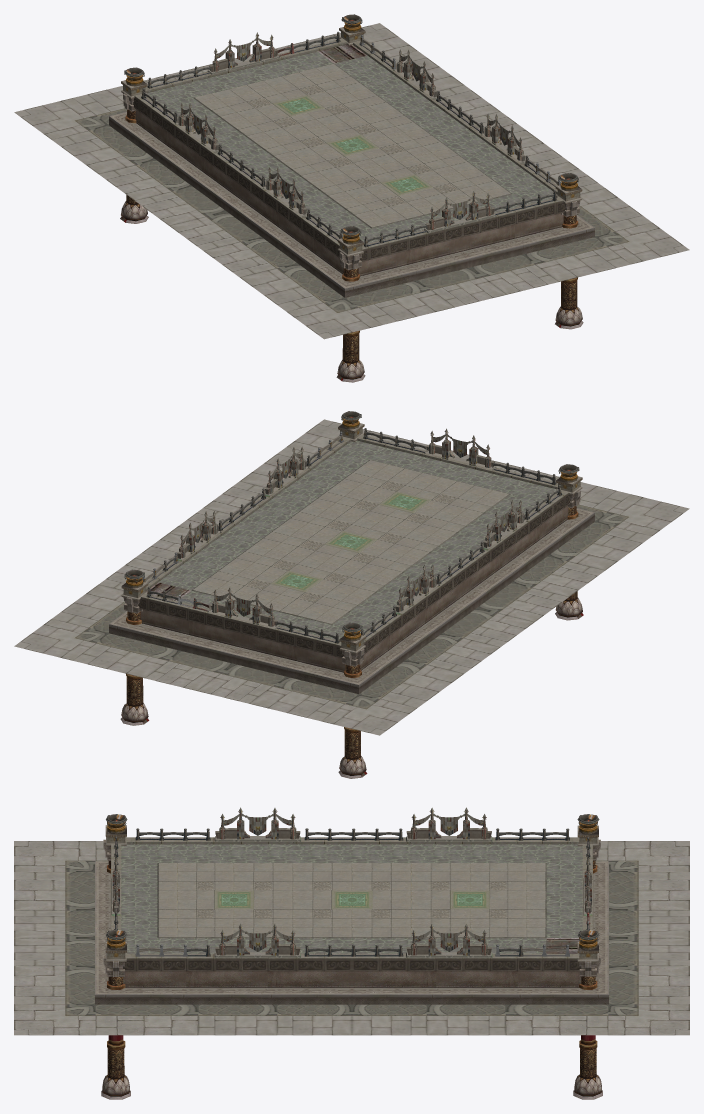
Rendered from zhandoupingtai01_56_12_0105out.fbx.
The picture shows the model from 3 angles, top to bottom: view 1: azimuth 30°, elevation 25°; view 2: azimuth 150°, elevation 25°; view 3: azimuth 270°, elevation 25°; orthographic projection. The views are drawn at different scales.
Parts seen in each view (by area): view 1: 0009_dajinjitai01, 0008_jj_menpaijingji_zhuangshi01, 0010_cj_luoyang_zhuzi01, 0006_cj_luoyang_langan03, 0004_cj_luoyang_huapen01, 0002_jj_huopen01; view 2: 0009_dajinjitai01, 0008_jj_menpaijingji_zhuangshi01, 0010_cj_luoyang_zhuzi01, 0006_cj_luoyang_langan03, 0004_cj_luoyang_huapen01, 0002_jj_huopen01; view 3: 0009_dajinjitai01, 0008_jj_menpaijingji_zhuangshi01, 0010_cj_luoyang_zhuzi01, 0006_cj_luoyang_langan03, 0004_cj_luoyang_huapen01, 0002_jj_huopen01, 0003_cj_luoyang_langan03.
Part boxes in pixels (x1=…): 0009_dajinjitai01: x1=14, y1=23, x2=689, y2=339; 0008_jj_menpaijingji_zhuangshi01: x1=175, y1=32, x2=525, y2=232; 0010_cj_luoyang_zhuzi01: x1=120, y1=93, x2=583, y2=382; 0006_cj_luoyang_langan03: x1=141, y1=31, x2=557, y2=247; 0004_cj_luoyang_huapen01: x1=121, y1=21, x2=582, y2=257; 0002_jj_huopen01: x1=124, y1=14, x2=578, y2=238; 0009_dajinjitai01: x1=14, y1=419, x2=689, y2=735; 0008_jj_menpaijingji_zhuangshi01: x1=177, y1=428, x2=527, y2=629; 0010_cj_luoyang_zhuzi01: x1=120, y1=490, x2=583, y2=778; 0006_cj_luoyang_langan03: x1=146, y1=428, x2=559, y2=643; 0004_cj_luoyang_huapen01: x1=121, y1=418, x2=582, y2=653; 0002_jj_huopen01: x1=124, y1=411, x2=579, y2=636; 0009_dajinjitai01: x1=14, y1=837, x2=689, y2=1035; 0008_jj_menpaijingji_zhuangshi01: x1=111, y1=807, x2=592, y2=957; 0010_cj_luoyang_zhuzi01: x1=101, y1=839, x2=602, y2=1099; 0006_cj_luoyang_langan03: x1=114, y1=828, x2=590, y2=956; 0004_cj_luoyang_huapen01: x1=105, y1=822, x2=598, y2=962; 0002_jj_huopen01: x1=106, y1=814, x2=599, y2=941; 0003_cj_luoyang_langan03: x1=139, y1=944, x2=569, y2=956.
Size of the model in its own units: 49.86 by 20.36 by 73.23.
